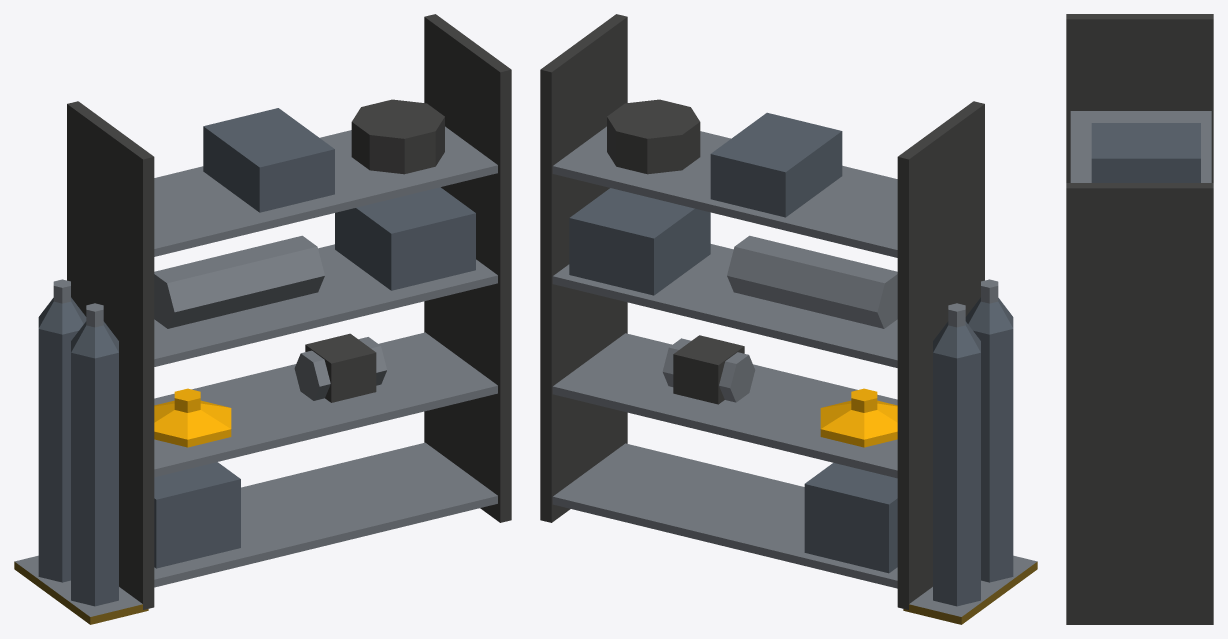
File: parts_rack.glb
3 views of the same model, side by side, from view 1: azimuth 30°, elevation 25°; view 2: azimuth 150°, elevation 25°; view 3: azimuth 270°, elevation 25° (orthographic). The views are drawn at different scales.
Visible parts, largest first — view 1: parts_rack; view 2: parts_rack; view 3: parts_rack.
Part boxes in pixels (x1,y1,x2,y2): parts_rack: (14,14,511,624); parts_rack: (540,14,1037,624); parts_rack: (1066,14,1213,624).
Bounding box in the file's own units: 2.24 × 2.3 × 0.7.
